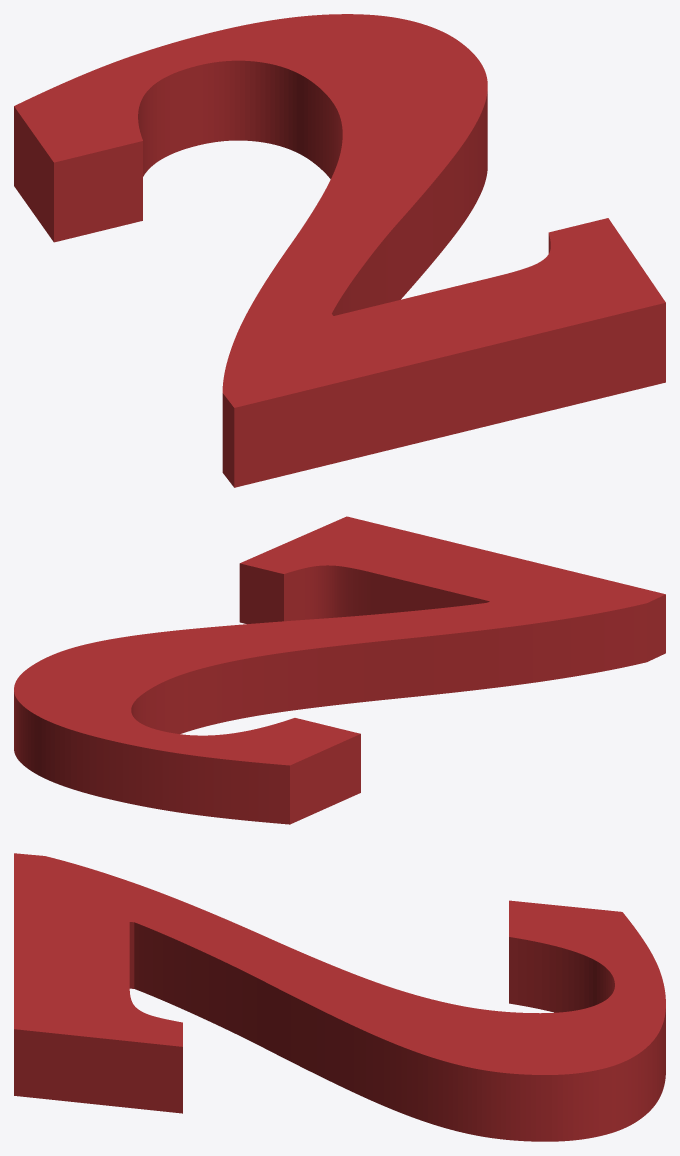
3 renders of one model, top to bottom at view 1: azimuth 30°, elevation 25°; view 2: azimuth 150°, elevation 25°; view 3: azimuth 270°, elevation 25°, orthographic. The views are drawn at different scales.
Visible parts, largest first — view 1: Text; view 2: Text; view 3: Text.
Part boxes in pixels (<box>): Text: <box>14,14,665,487</box>; Text: <box>14,516,665,824</box>; Text: <box>14,853,665,1141</box>.
Bounding box in the file's own units: 198 × 27.81 × 246.
